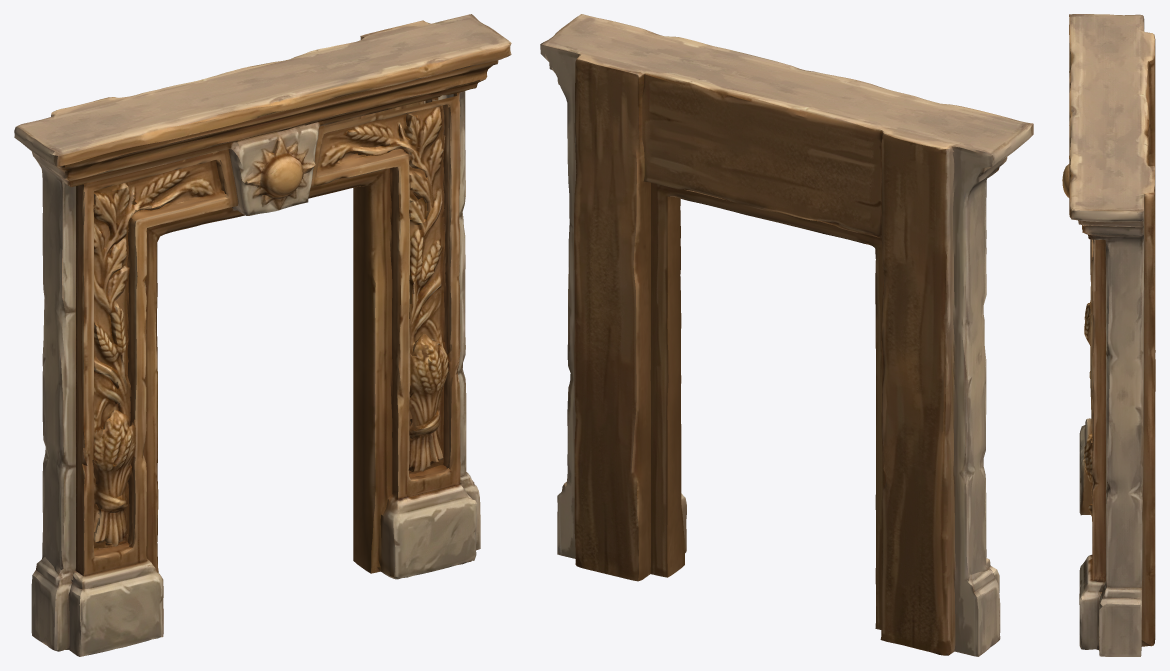
The model's file is meadows_arch_home.glb.
The picture shows the model from 3 angles, left to right: view 1: azimuth 30°, elevation 25°; view 2: azimuth 150°, elevation 25°; view 3: azimuth 270°, elevation 25°; orthographic projection. The views are drawn at different scales.
Visible parts, largest first — view 1: Mesh_0; view 2: Mesh_0; view 3: Mesh_0.
Part boxes in pixels (x1,y1,x2,y2): Mesh_0: (14,14,511,656); Mesh_0: (540,14,1033,656); Mesh_0: (1062,14,1155,656).
Bounding box in the file's own units: 1.78 × 1.9 × 0.3532.
1 material, 1 textured.
